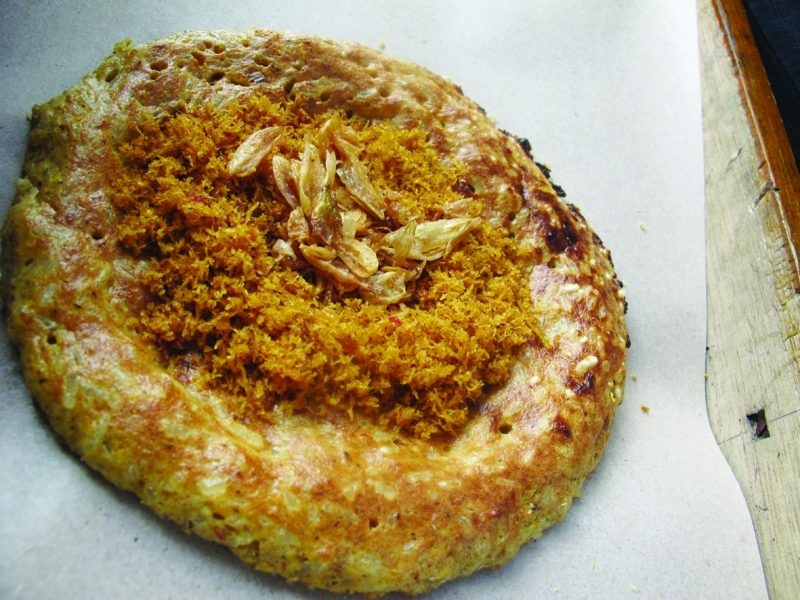kerak_telor: (9, 25, 623, 587)
